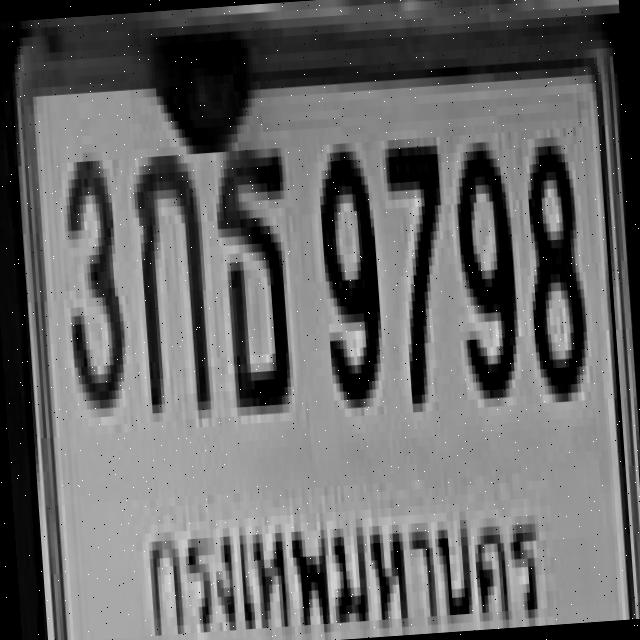10GorGai: (127, 145, 210, 405)
3: (55, 142, 125, 402)
33ThorThong: (208, 139, 298, 408)
7: (381, 137, 451, 404)
8: (517, 128, 587, 394)
9: (312, 134, 382, 400), (449, 132, 519, 391)
Bangkok: (129, 463, 567, 640)
